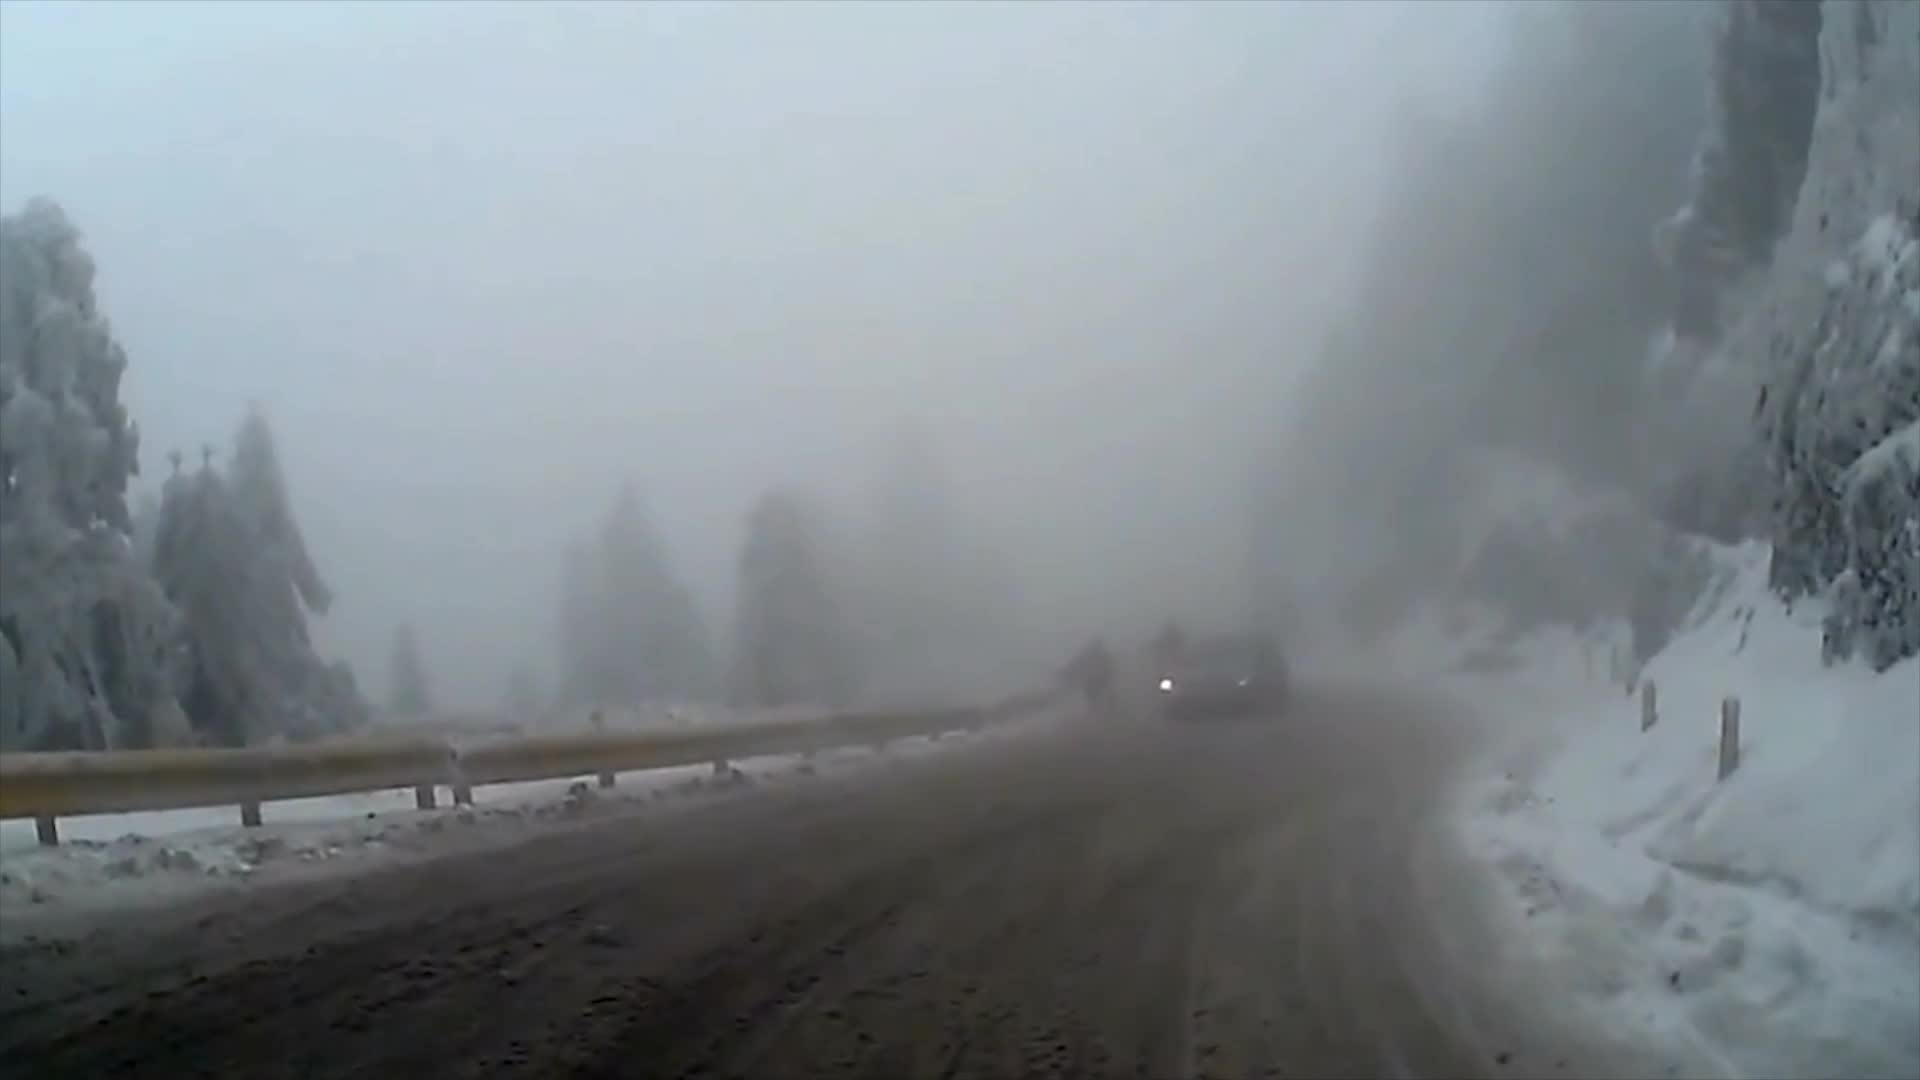vehicle: (1153, 630, 1294, 721)
